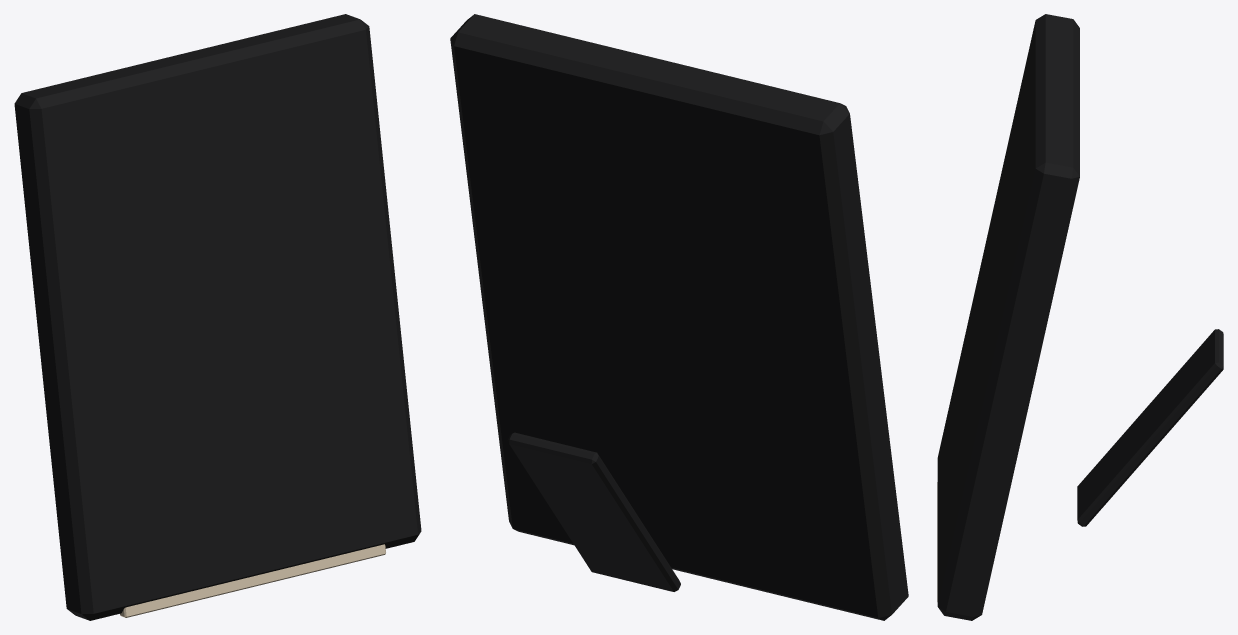
The model's file is i_tframe_0.glb.
The picture shows the model from 3 angles, left to right: view 1: azimuth 30°, elevation 25°; view 2: azimuth 150°, elevation 25°; view 3: azimuth 270°, elevation 25°; orthographic projection. The views are drawn at different scales.
Visible parts, largest first — view 1: o, o.001; view 2: o, o.002; view 3: o, o.002.
Part boxes in pixels (x1,y1,x2,y2): o: (14, 14, 421, 620); o.001: (120, 544, 385, 617); o: (450, 14, 908, 620); o.002: (507, 432, 680, 591); o: (937, 14, 1079, 620); o.002: (1077, 329, 1223, 526).
Size of the model in its own units: 0.13 by 0.1784 by 0.1011.
